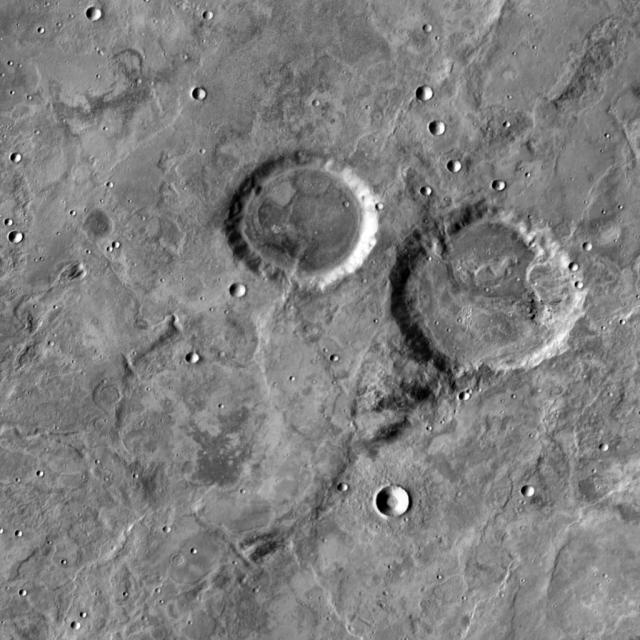crater: (121, 330, 325, 512), (399, 212, 589, 382), (234, 157, 386, 292), (449, 213, 550, 303), (383, 488, 418, 518), (100, 384, 132, 412), (74, 266, 92, 282), (237, 285, 254, 301), (437, 121, 454, 137), (423, 88, 441, 103), (194, 353, 209, 366), (16, 233, 31, 246), (94, 11, 109, 23), (199, 91, 214, 103), (455, 162, 470, 174), (528, 488, 542, 500), (499, 181, 513, 193), (346, 485, 357, 495), (429, 188, 439, 198), (211, 12, 221, 22), (577, 264, 587, 274), (467, 393, 477, 402), (180, 558, 190, 567), (19, 156, 29, 164), (590, 244, 600, 252), (79, 623, 89, 631), (431, 26, 440, 34), (384, 204, 392, 212), (607, 446, 615, 454), (12, 221, 20, 228), (22, 534, 30, 541), (170, 527, 178, 534), (106, 176, 113, 184), (320, 102, 327, 109), (27, 592, 34, 599), (584, 284, 592, 290), (332, 350, 340, 356), (37, 467, 44, 472)
